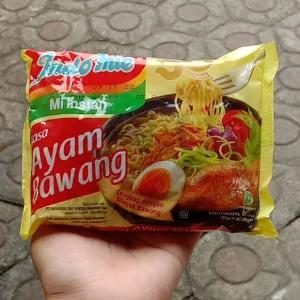Indomie Ayam Bawang (69g): (19, 45, 273, 235)
